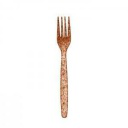fork: (45, 11, 85, 118)
